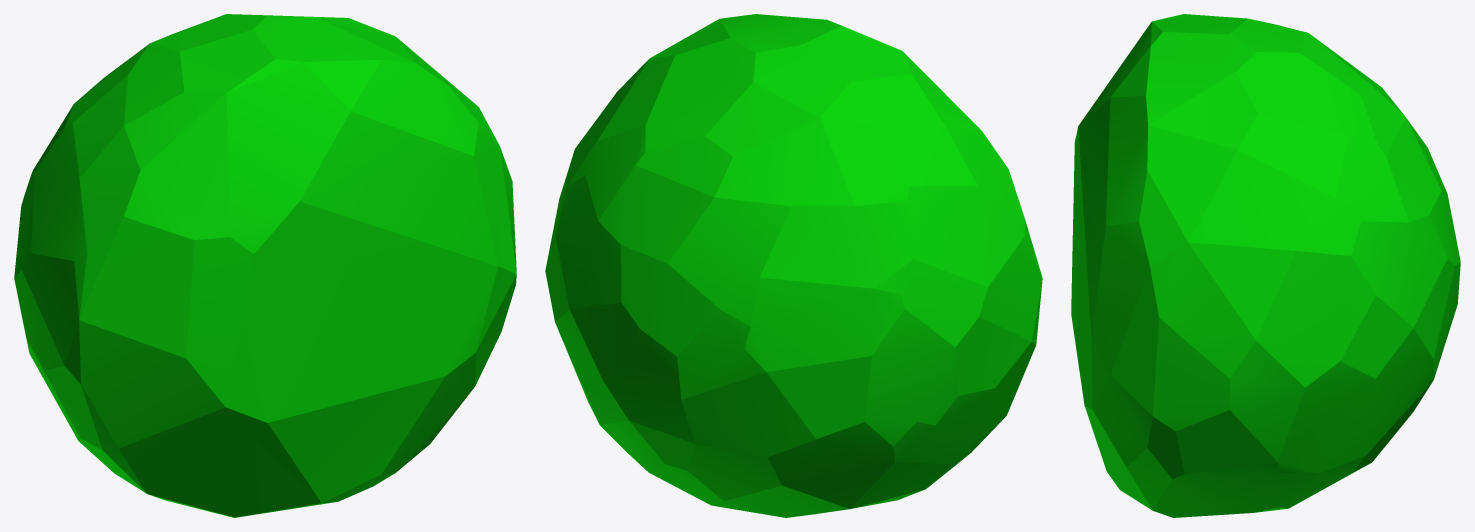
File: RF_HAA_com_constraints.dae
3 views of the same model, side by side, from view 1: azimuth 30°, elevation 25°; view 2: azimuth 150°, elevation 25°; view 3: azimuth 270°, elevation 25° (orthographic). The views are drawn at different scales.
Parts seen in each view (by area): view 1: foo_009; view 2: foo_009; view 3: foo_009.
Boxes of the visible parts, left/top/right/bottom form: foo_009: left=14, top=14, right=516, bottom=517; foo_009: left=545, top=14, right=1042, bottom=517; foo_009: left=1071, top=14, right=1460, bottom=517.
Bounding box in the file's own units: 1.92 × 1.49 × 1.87.
